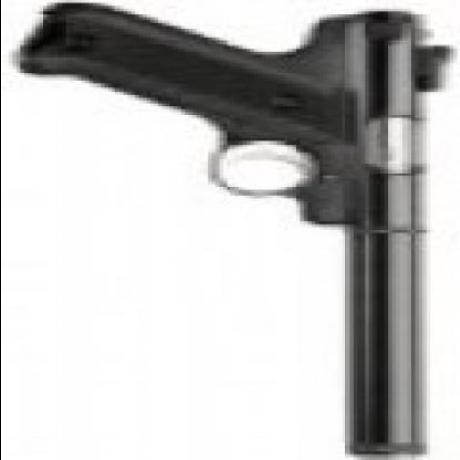weapon: (21, 12, 448, 455)
